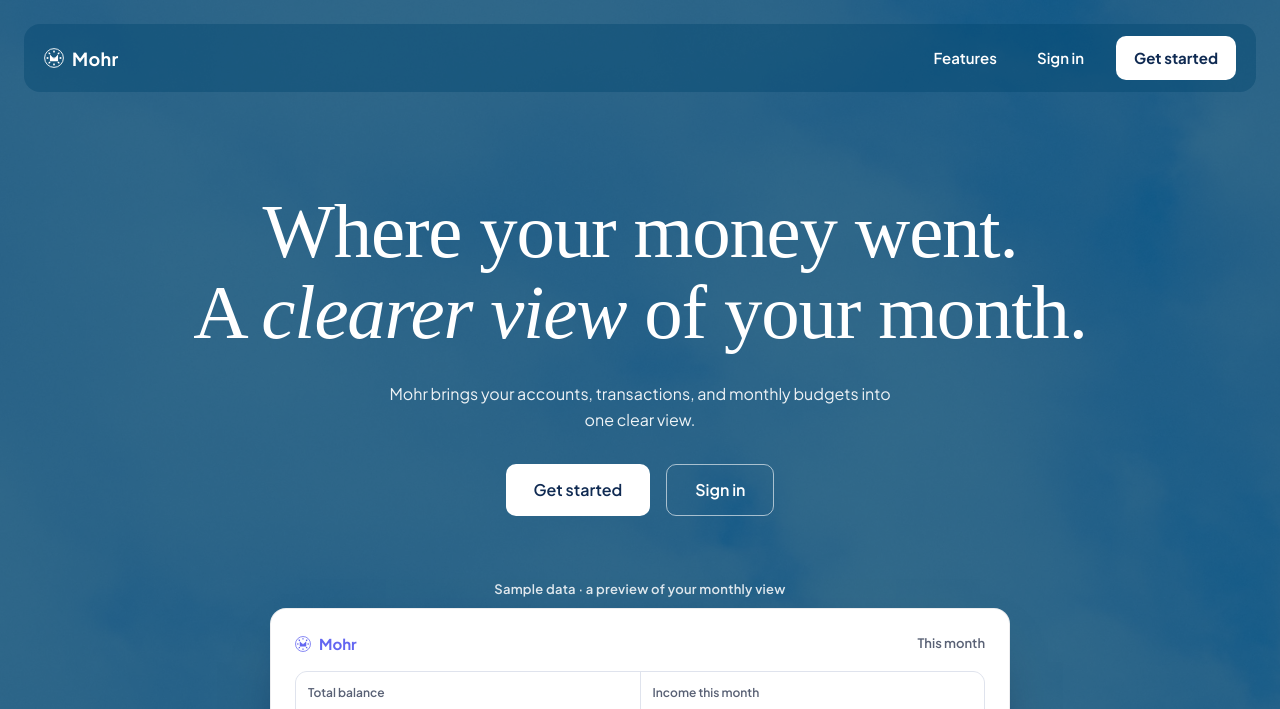
Test case: login › shows the backend credential error and stays on the login screen
Click the link "Sign in" next to "Features": click(1060, 57) top-left (1037, 48), bottom-right (1084, 67)
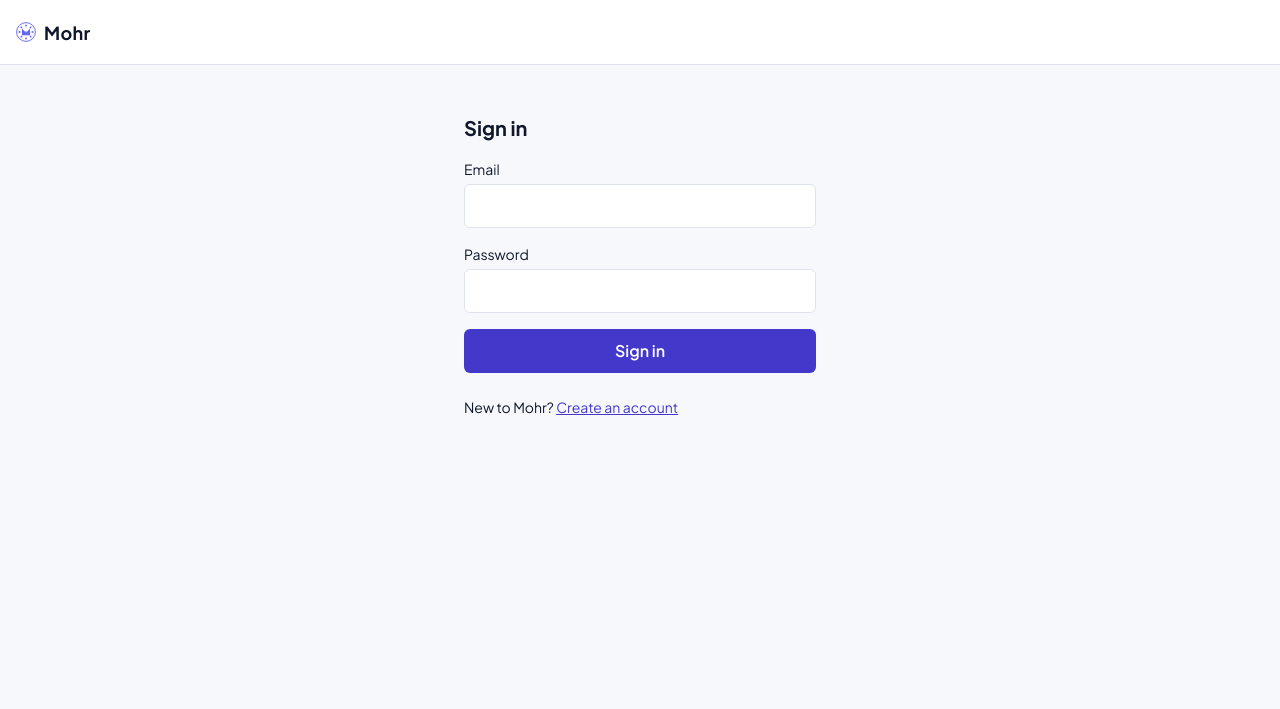
Expected: the field labelled "Email" is shown
In the field labelled "Email": (640, 206) top-left (464, 184), bottom-right (816, 228), type "wrong@example.com"
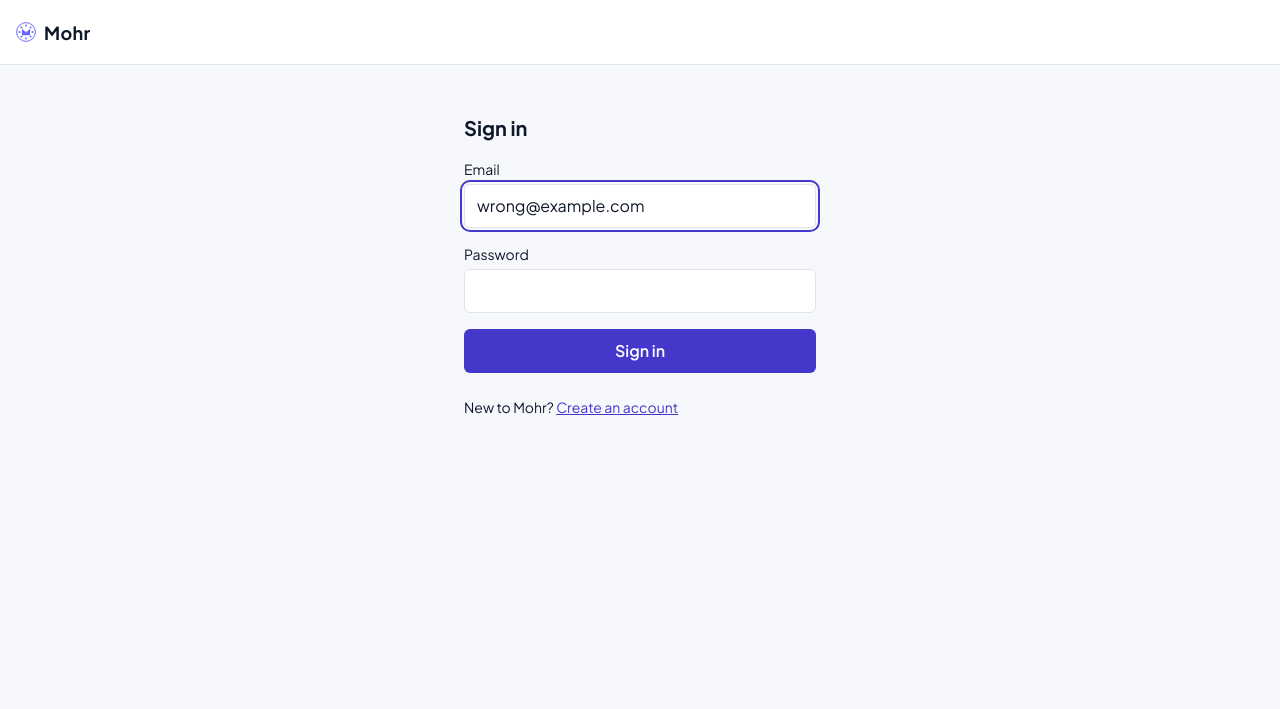
In the password field labelled "Password": (640, 291) top-left (464, 269), bottom-right (816, 313), type "wrong-password"
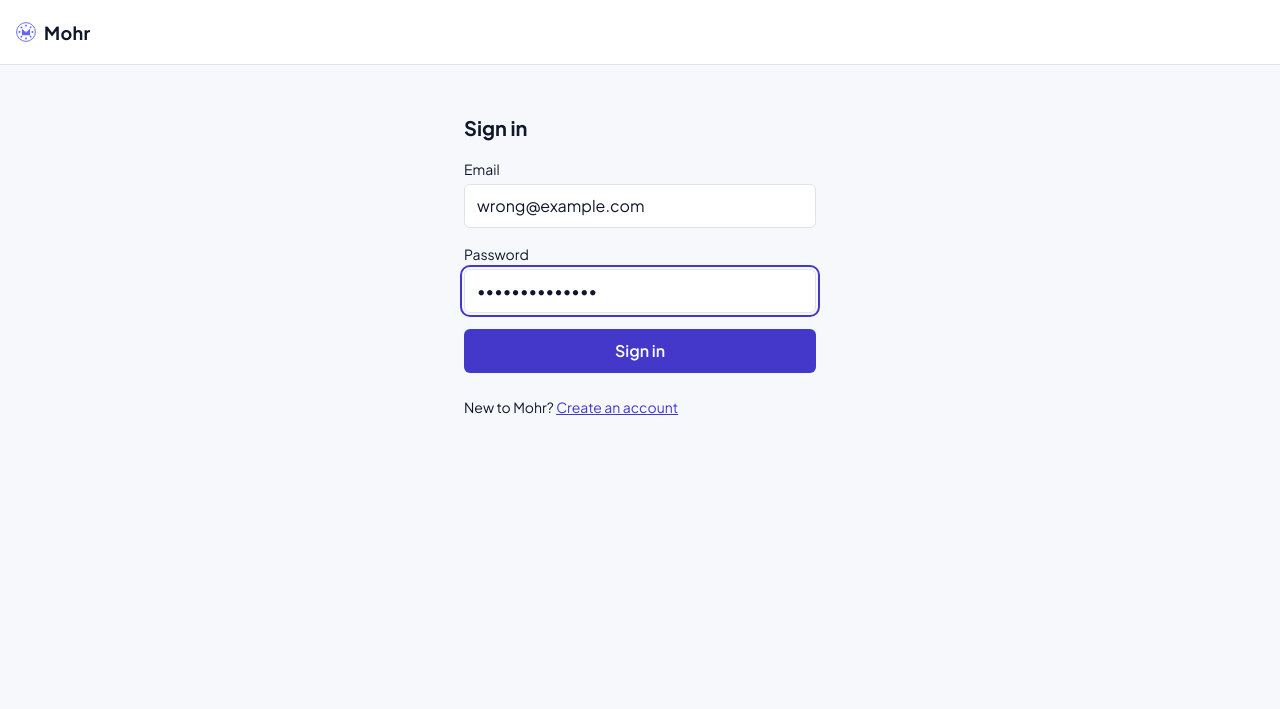
Click the button "Sign in": click(640, 351) top-left (464, 329), bottom-right (816, 373)
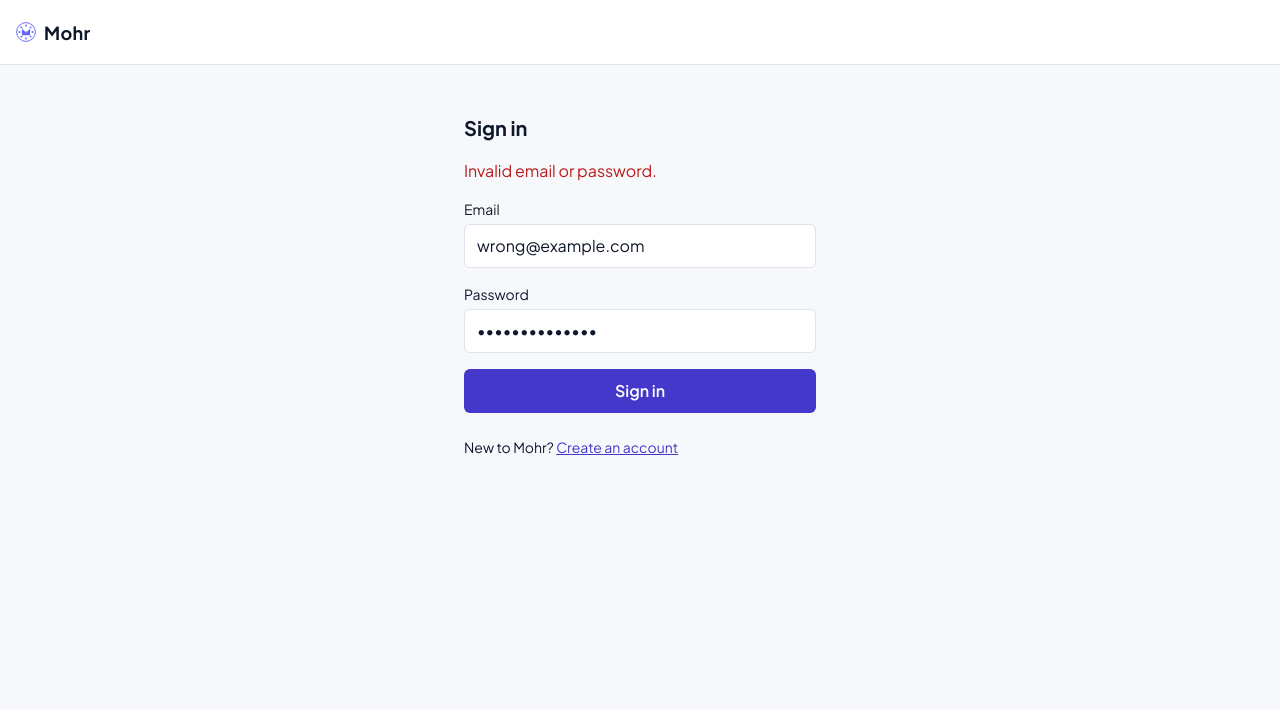
Expected: the message reads "Invalid email or password.", top-left (464, 160), bottom-right (657, 181)
